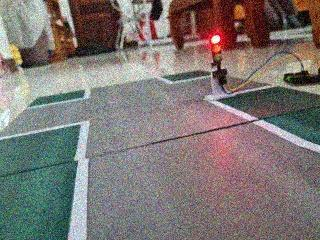red: (200, 25, 231, 76)
